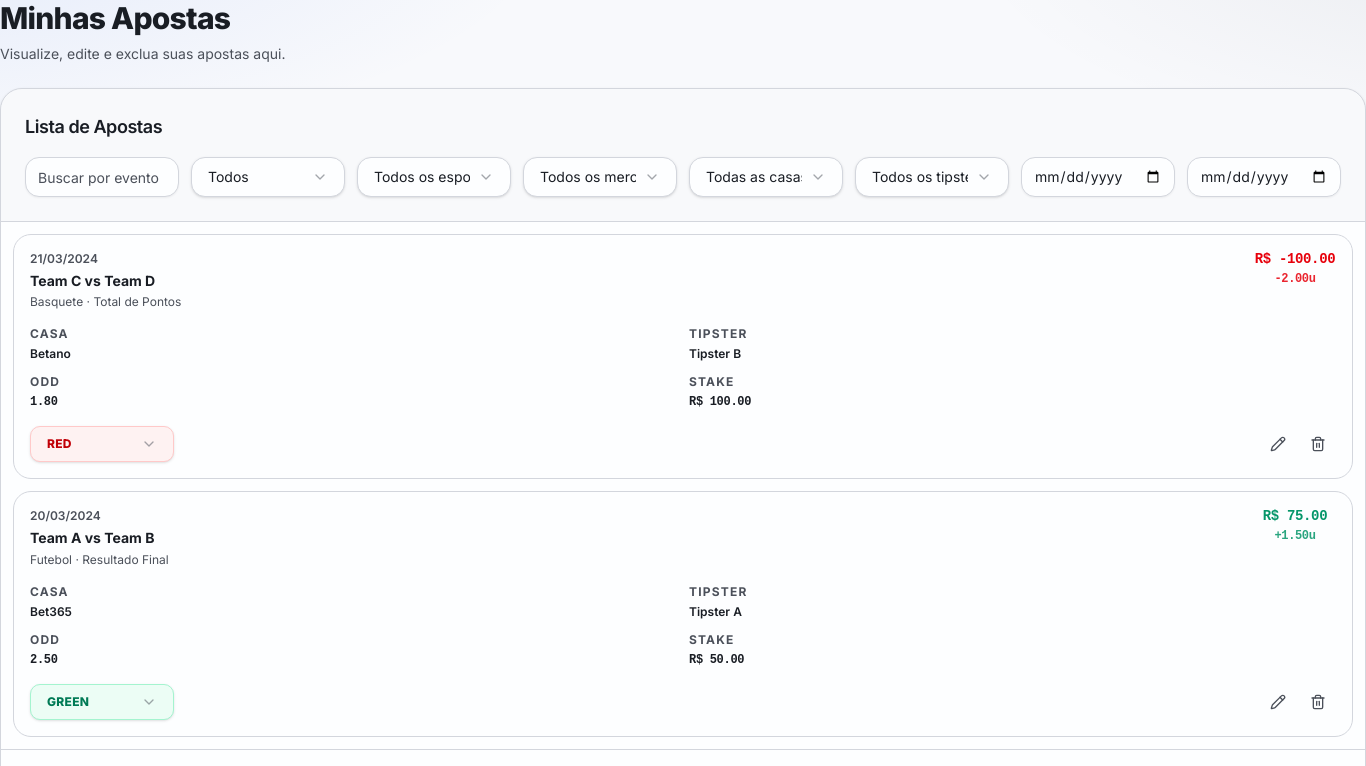
Bets Integration Tests › filters bets by bookmaker
Check: the heading "Team A vs Team B" is shown, box 30,528 -> 169,548
What coordinates should you click on to do the following:
click the dropdown labelled "casa"
I would click on:
 (766, 177)
Its box is 689,157 -> 843,197.
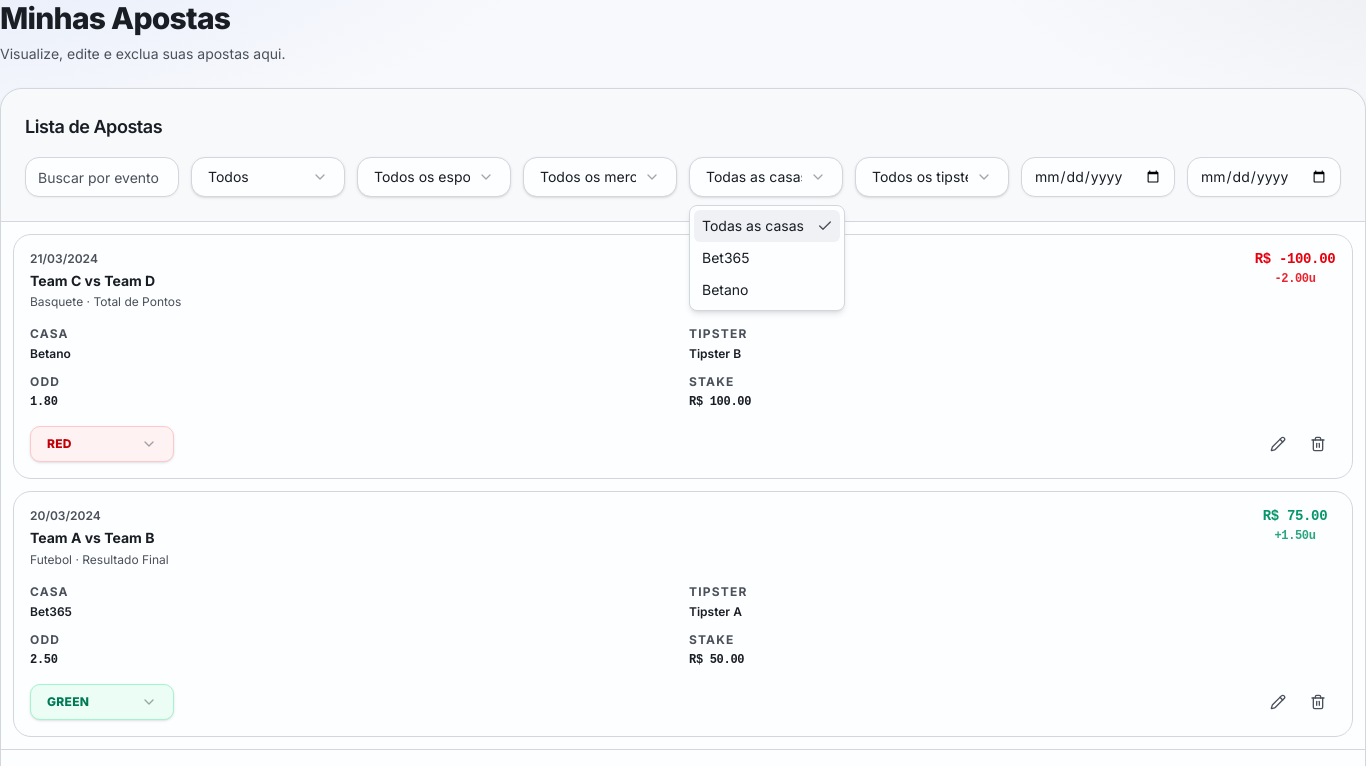
What coordinates should you click on to do the following:
click the option "Betano"
I would click on:
 (725, 290)
Its box is 702,281 -> 748,298.
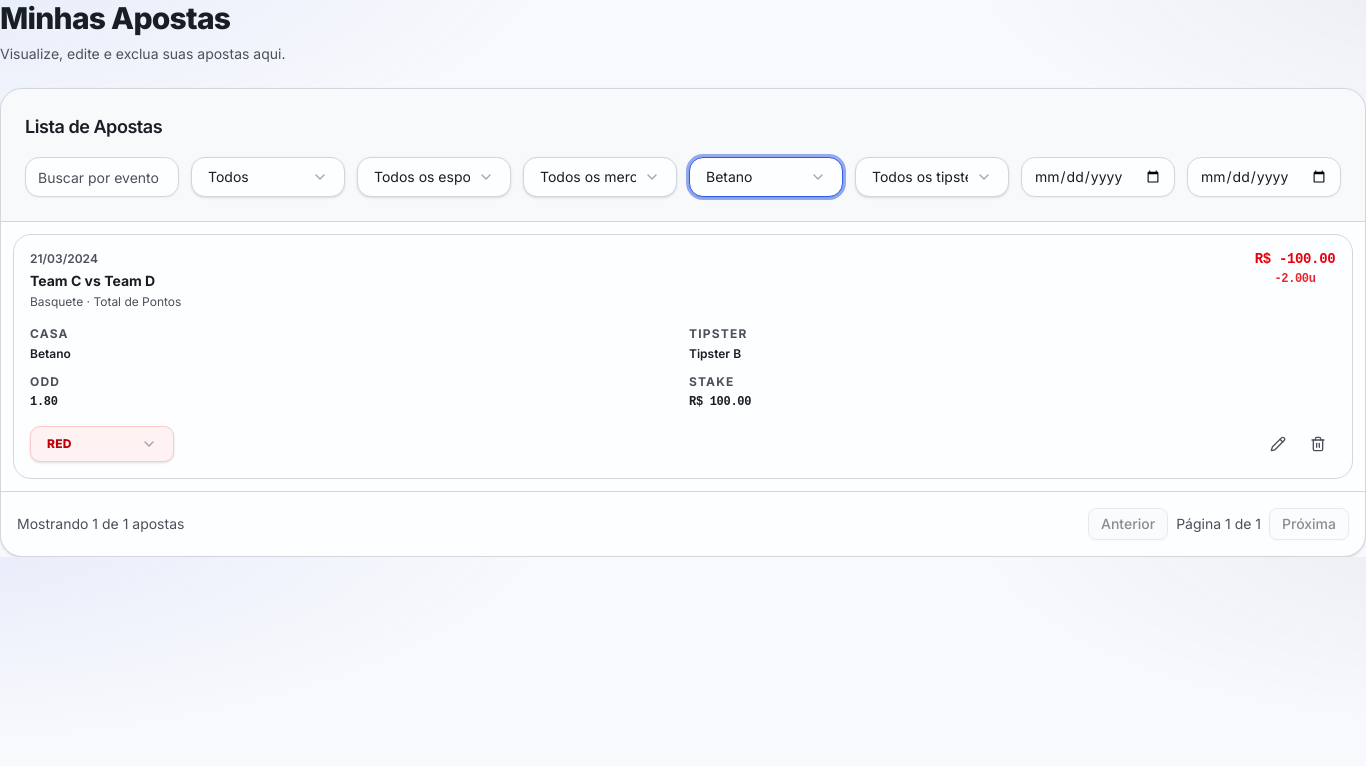
Check: the heading "Team C vs Team D" is shown, box 30,272 -> 155,289
Check: the heading "Team A vs Team B" is gone
